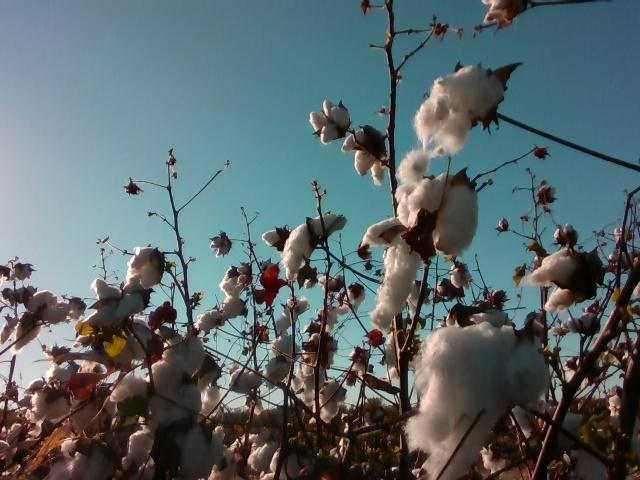cotton_ready: (406, 323, 551, 480), (395, 66, 507, 184), (396, 174, 479, 258), (362, 218, 421, 330), (110, 360, 203, 426), (528, 249, 599, 313), (285, 213, 346, 284), (48, 435, 122, 480), (85, 279, 147, 332), (155, 325, 206, 382), (173, 426, 225, 480), (342, 132, 386, 187), (310, 99, 352, 144), (71, 398, 117, 430), (126, 247, 163, 286), (30, 390, 73, 422), (481, 0, 517, 25)
